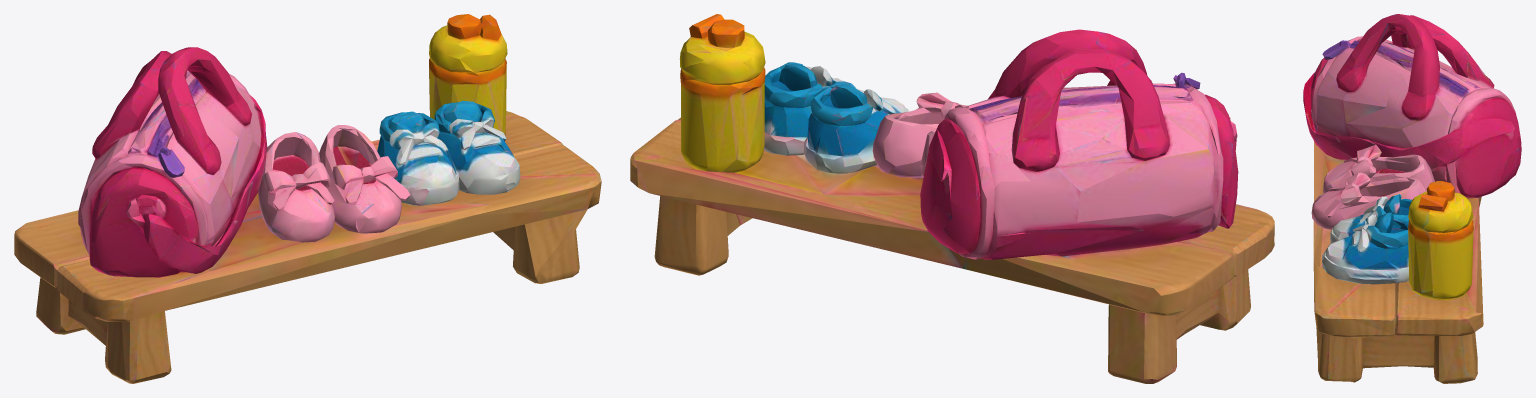
Rendered from ds-baenk.glb.
3 renders of one model, left to right at view 1: azimuth 30°, elevation 25°; view 2: azimuth 150°, elevation 25°; view 3: azimuth 270°, elevation 25°, orthographic. The views are drawn at different scales.
Size of the model in its own units: 1.9 by 0.9725 by 0.8455.
Materials: 1 (1 with a texture image).
